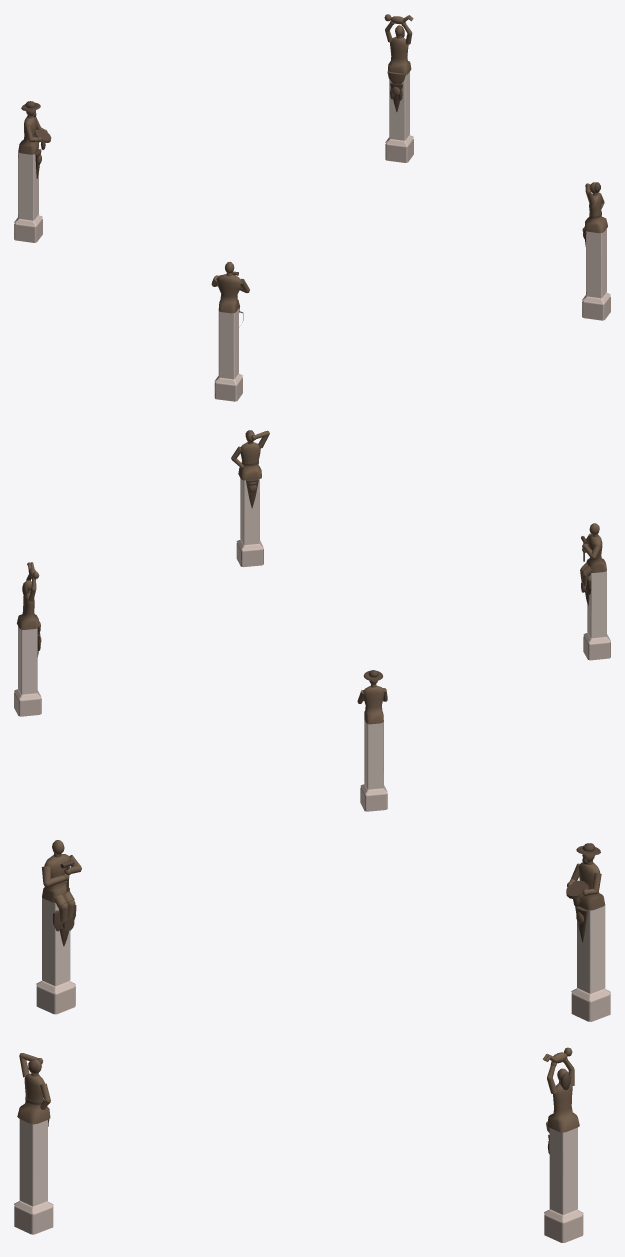
File: independence-square-statues.glb
3 views of the same model, one above another, from view 1: azimuth 30°, elevation 25°; view 2: azimuth 150°, elevation 25°; view 3: azimuth 270°, elevation 25° (orthographic). The views are drawn at different scales.
Visible parts, largest first — view 1: Independence Square statues; view 2: Independence Square statues; view 3: Independence Square statues.
Part boxes in pixels (box(x1,y1,x2,y2)): Independence Square statues: box(14, 14, 610, 401); Independence Square statues: box(14, 430, 610, 811); Independence Square statues: box(14, 840, 610, 1242).
Bounding box in the file's own units: 23.25 × 8.06 × 23.9.
